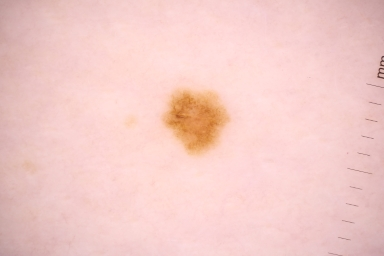melanoma: (168, 91, 229, 157)
